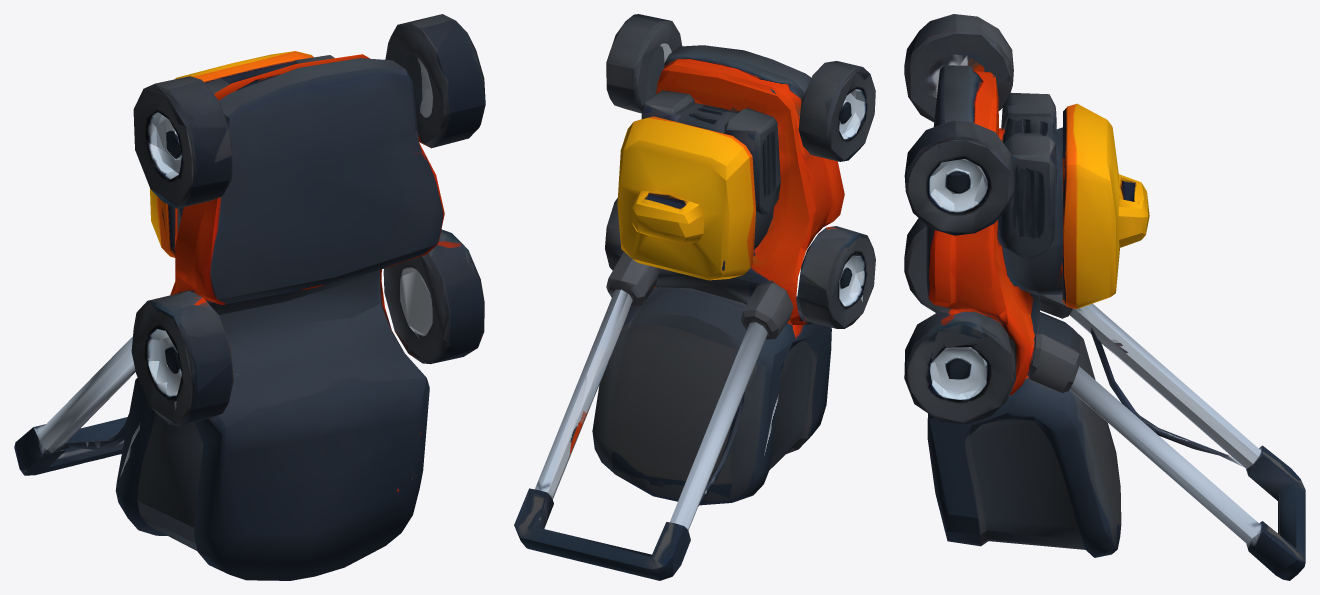
Rendered from ModeloCortadora.fbx.
3 renders of one model, left to right at view 1: azimuth 30°, elevation 25°; view 2: azimuth 150°, elevation 25°; view 3: azimuth 270°, elevation 25°, orthographic. The views are drawn at different scales.
Visible parts, largest first — view 1: model; view 2: model; view 3: model.
Boxes of the visible parts, <box> form: model: <box>14,14,485,580</box>; model: <box>514,14,875,580</box>; model: <box>904,14,1305,580</box>.
Bounding box in the file's own units: 104 × 184 × 142.
